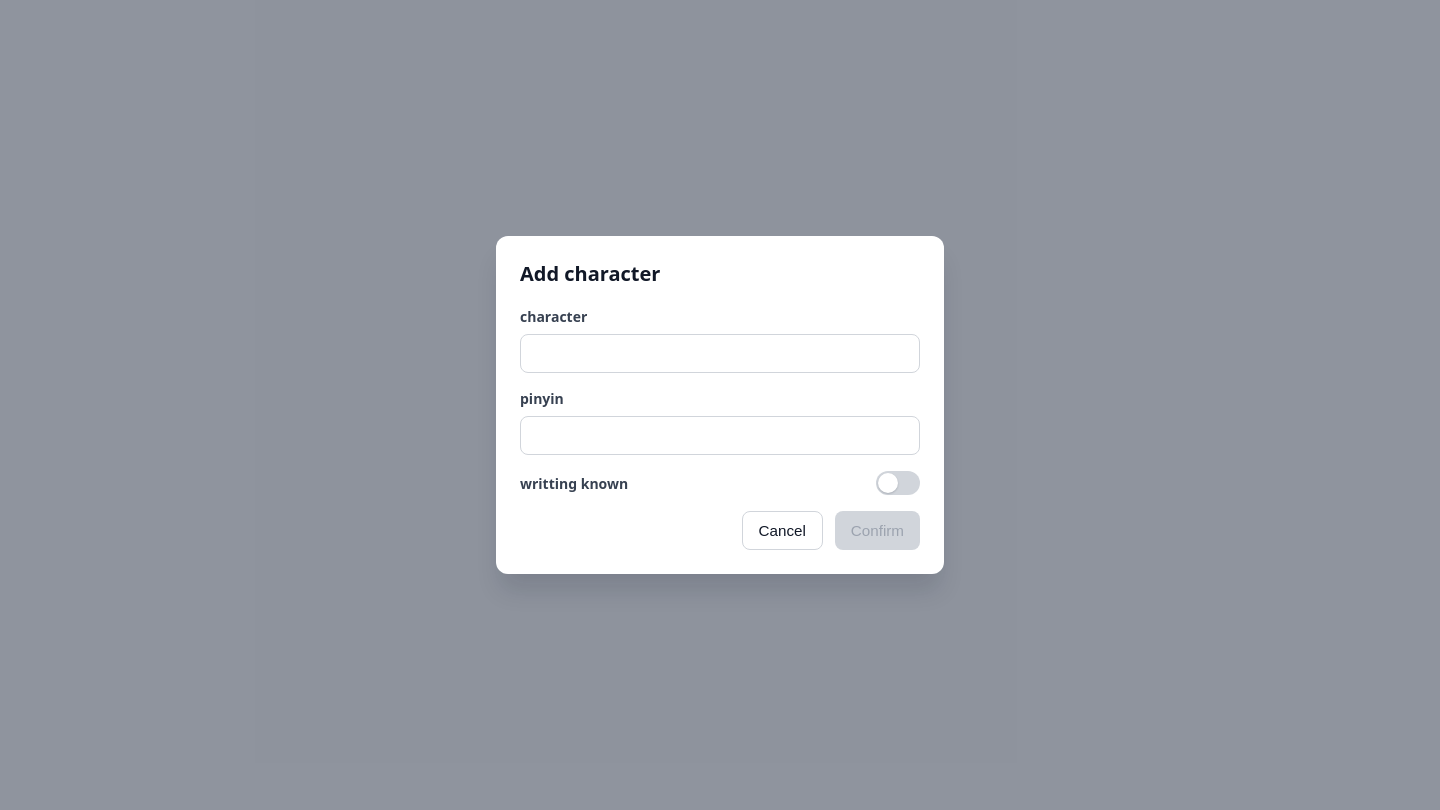
CharacterFormModal › keeps confirm disabled and shows a warning for multiple characters
Type "爱" into the field labelled "character" at (720, 354), box [520,334,920,373]
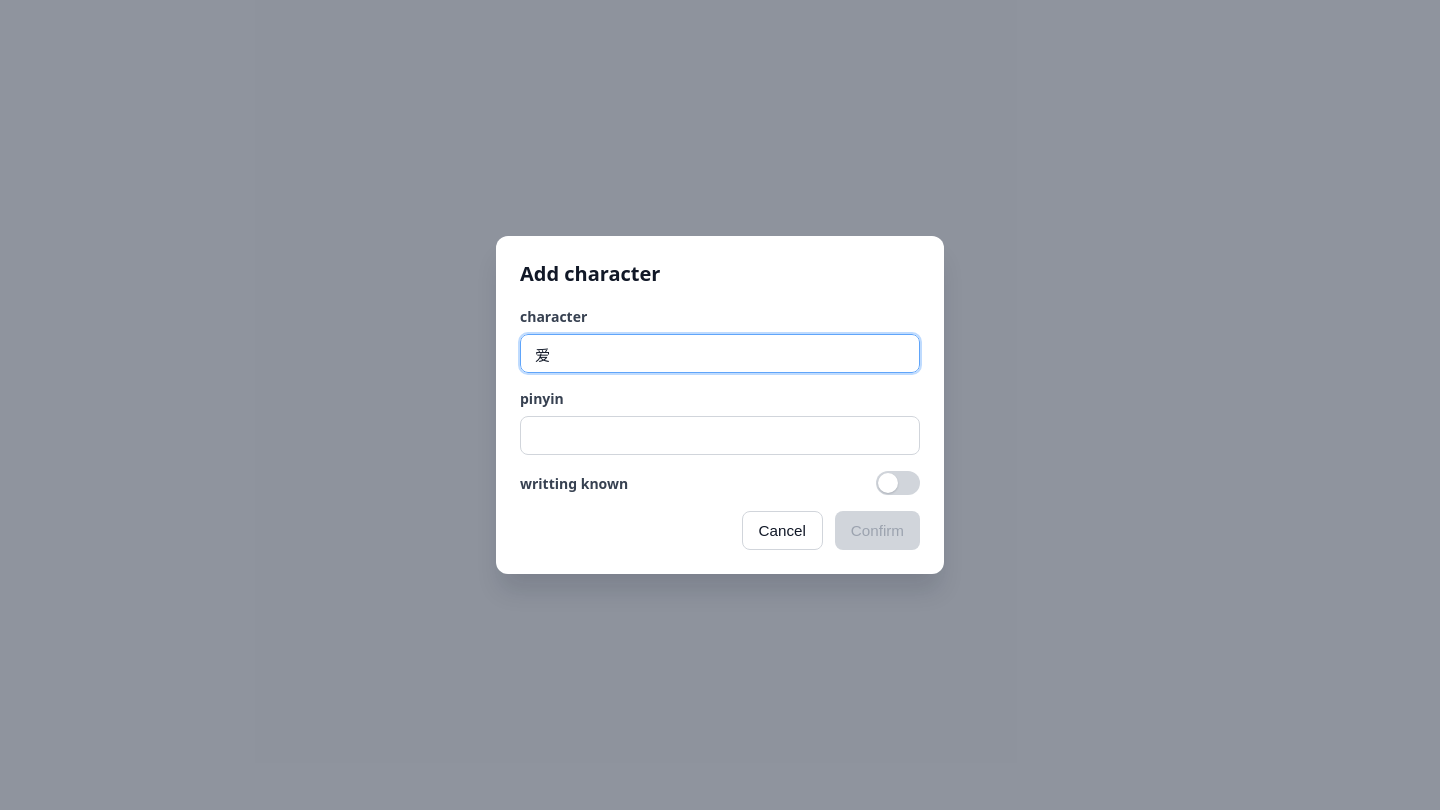
Type "ai" into the field labelled "pinyin" at (720, 436), box [520,416,920,455]
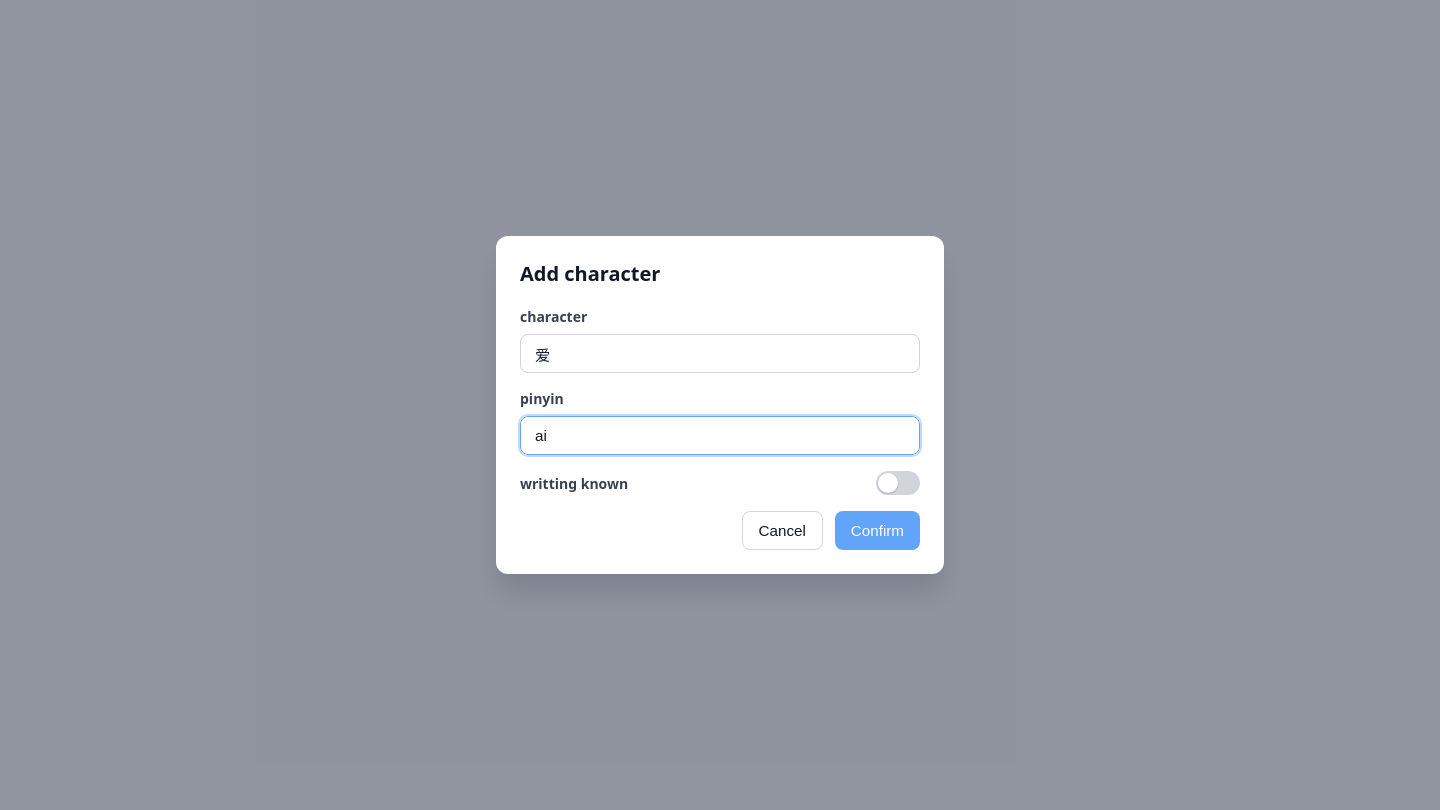
Now the button "Confirm" is enabled, box [835,511,920,550]
Type "好" into the field labelled "character" at (720, 354), box [520,334,920,373]
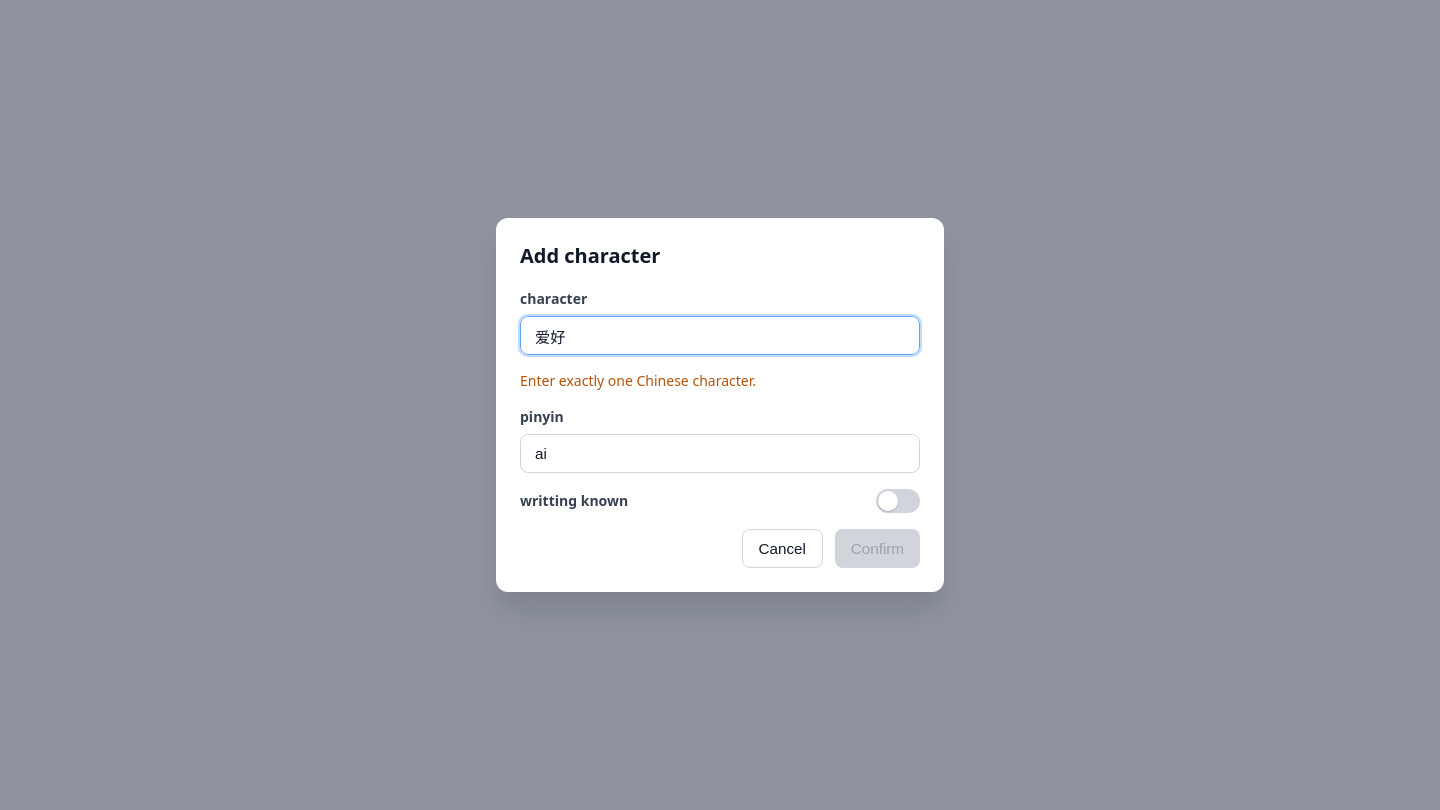
Now the button "Confirm" is disabled, box [835,529,920,568]
Now the text "Enter exactly one Chinese character." is shown, box [520,371,756,390]
